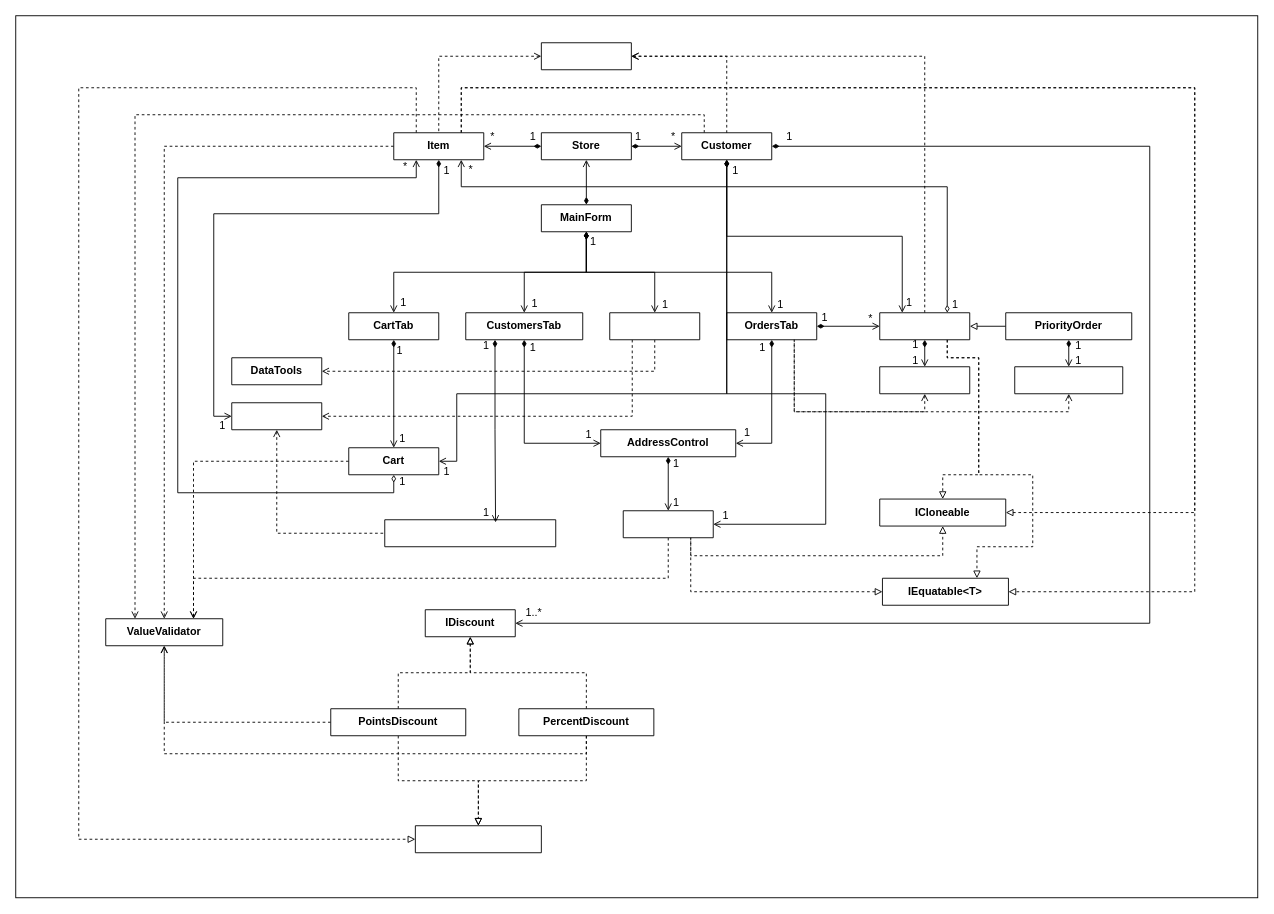
This 1274x914 diagram has some shape labels left out. The centre of each missing label's shape, as x and y in pixels:
Address: pixel 667 524
Category: pixel 276 416
DeliveryTime: pixel 1068 380
DiscountModalWindow: pixel 470 533
IComparable<T>: pixel 477 839
IdGenerator: pixel 585 56
ItemsTab: pixel 654 326
Order: pixel 924 326
OrderStatus: pixel 924 380
